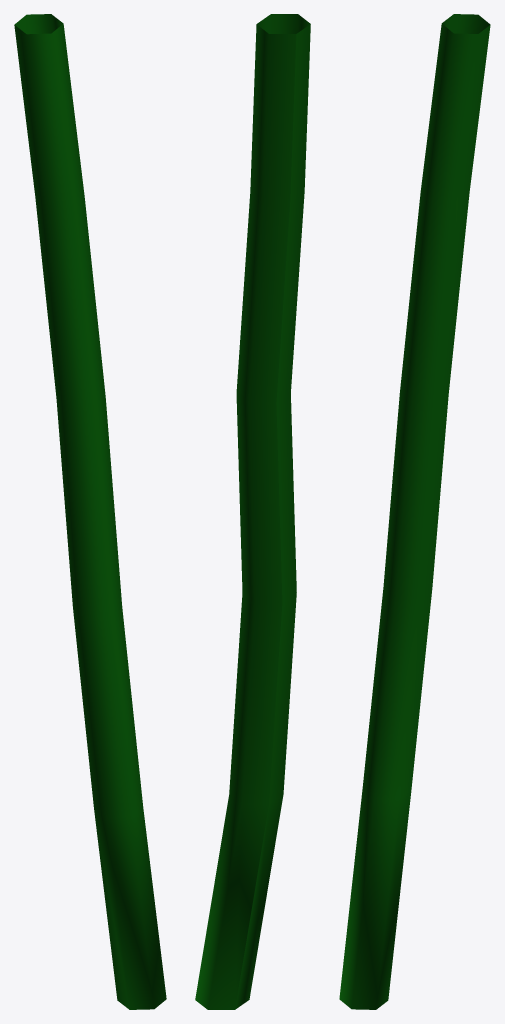
Rendered from Stem3 old.DAE.
The picture shows the model from 3 angles, left to right: view 1: azimuth 90°, elevation 25°; view 2: azimuth 210°, elevation 25°; view 3: azimuth 270°, elevation 25°; orthographic projection. The views are drawn at different scales.
Parts seen in each view (by area): view 1: mesh04; view 2: mesh04; view 3: mesh04.
Part boxes in pixels (box(x1,y1,x2,y2)): mesh04: box(14, 14, 166, 1009); mesh04: box(195, 14, 310, 1009); mesh04: box(339, 14, 490, 1009).
Size of the model in its own units: 0.3468 by 5.09 by 0.7172.
